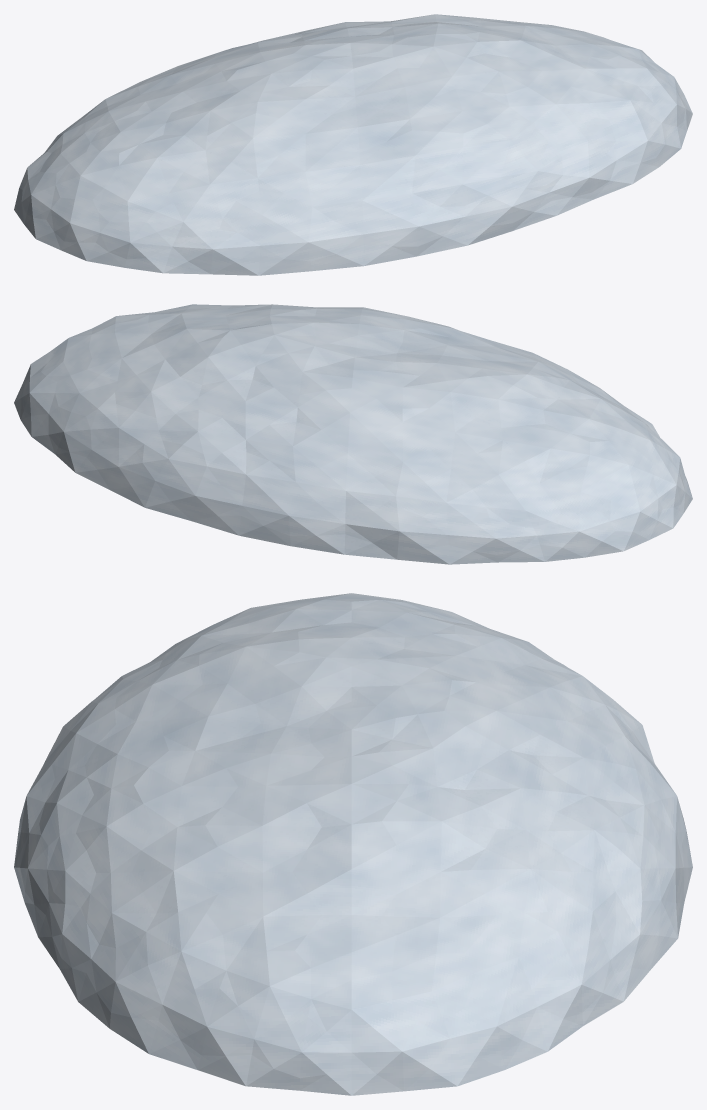
File: snow_drift_a.glb
The picture shows the model from 3 angles, top to bottom: view 1: azimuth 30°, elevation 25°; view 2: azimuth 150°, elevation 25°; view 3: azimuth 270°, elevation 25°; orthographic projection. The views are drawn at different scales.
Parts seen in each view (by area): view 1: snow_drift_a; view 2: snow_drift_a; view 3: snow_drift_a.
Boxes of the visible parts, box(x1,y1,x2,y2) form: snow_drift_a: box(14, 14, 692, 275); snow_drift_a: box(14, 304, 692, 564); snow_drift_a: box(14, 593, 692, 1095).
Bounding box in the file's own units: 2.87 × 0.4376 × 1.8.
2 materials, 2 textured.
